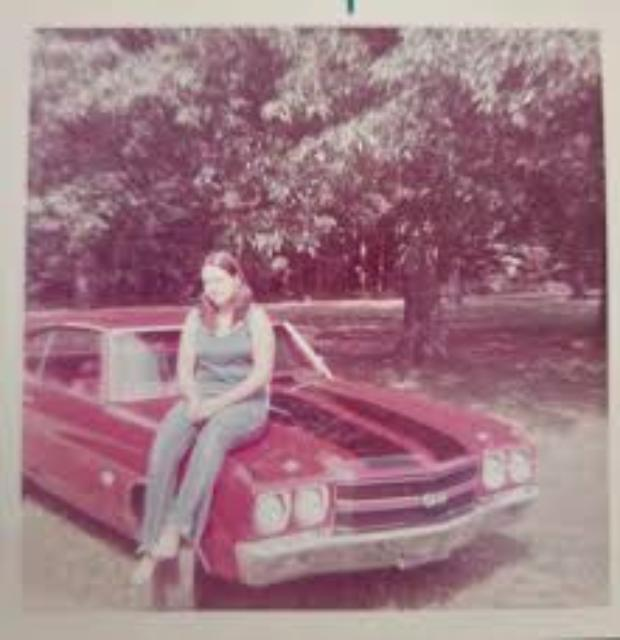chevelle-1972: (196, 320, 536, 598), (22, 309, 182, 536)
